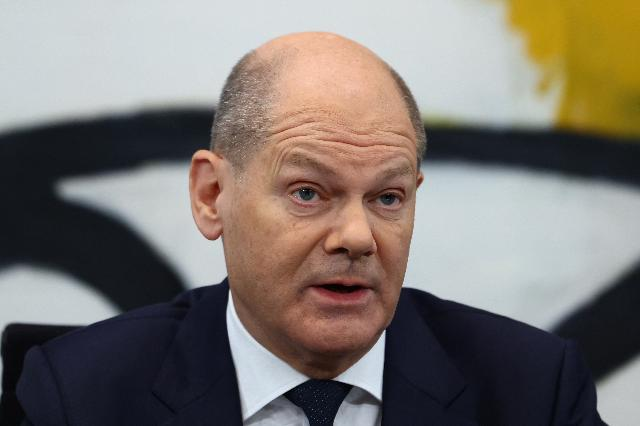forehead: (326, 129, 394, 155), (272, 119, 318, 142), (398, 126, 414, 162), (269, 149, 287, 174)
gummy_smile: (300, 228, 328, 272)
